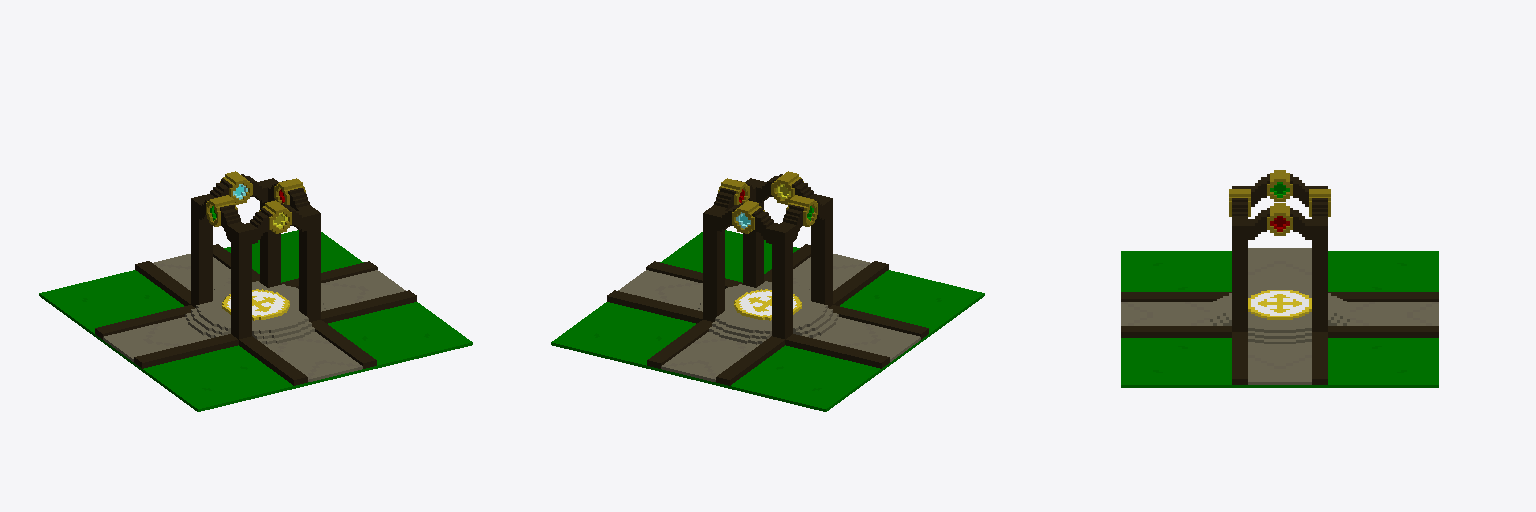
The picture shows the model from 3 angles: view 1: azimuth 30°, elevation 25°; view 2: azimuth 150°, elevation 25°; view 3: azimuth 270°, elevation 25°; orthographic projection.
Visible parts, largest first — view 1: object 1; view 2: object 1; view 3: object 1.
Boxes of the visible parts, x1,y1,x2,y2 form: object 1: [39, 171, 472, 411]; object 1: [551, 171, 984, 411]; object 1: [1121, 170, 1438, 387].
Bounding box in the file's own units: 10 × 4.5 × 10.
1 materials, 1 textured.